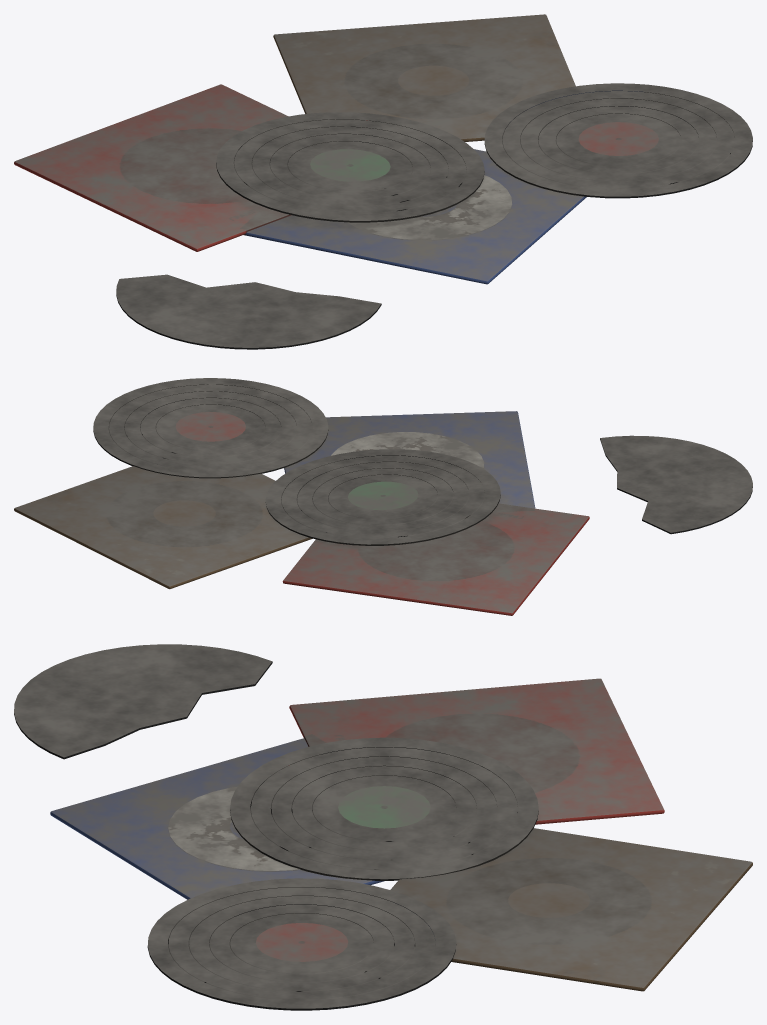
Rendered from SM_VinylRecords.fbx.
3 renders of one model, top to bottom at view 1: azimuth 30°, elevation 25°; view 2: azimuth 150°, elevation 25°; view 3: azimuth 270°, elevation 25°, orthographic. The views are drawn at different scales.
Visible parts, largest first — view 1: SM_VinylRecords; view 2: SM_VinylRecords; view 3: SM_VinylRecords.
Boxes of the visible parts, x1=… form: SM_VinylRecords: x1=14, y1=14, x2=752, y2=349; SM_VinylRecords: x1=14, y1=378, x2=752, y2=615; SM_VinylRecords: x1=14, y1=644, x2=752, y2=1010.
Bounding box in the file's own units: 0.8497 × 0.0185 × 0.7179.
Materials: 1 (1 with a texture image).
